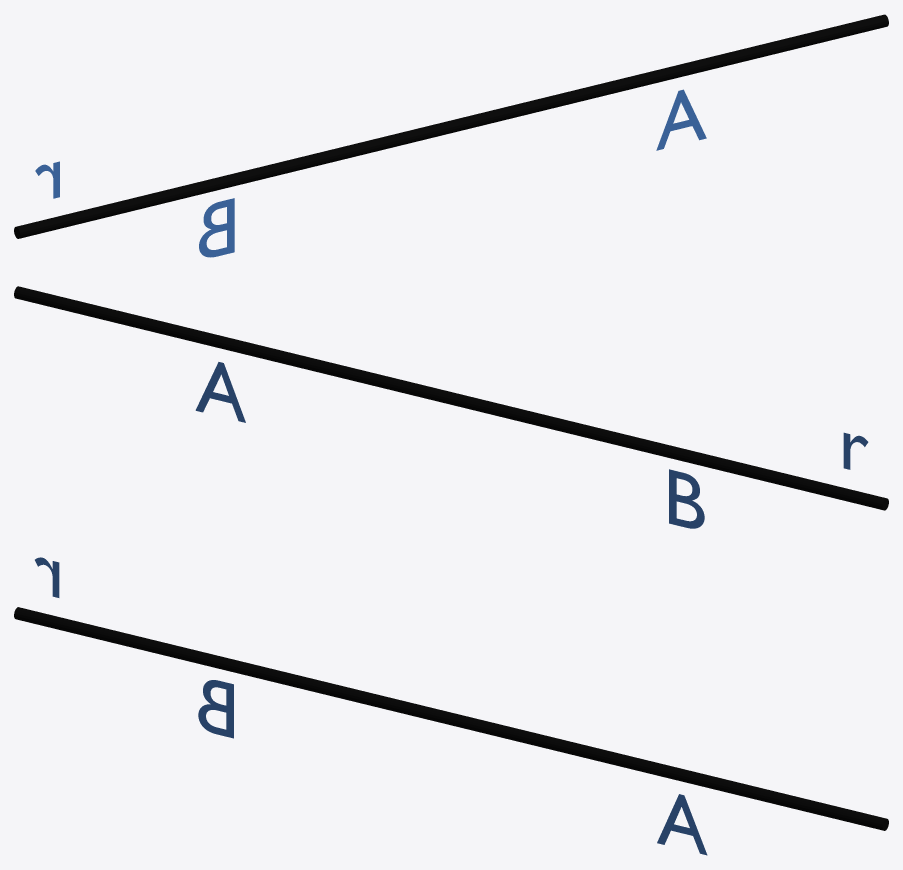
The model's file is ob1.1_reta.wrl.glb.
3 renders of one model, top to bottom at view 1: azimuth 30°, elevation 25°; view 2: azimuth 150°, elevation 25°; view 3: azimuth 330°, elevation 25°, orthographic.
Visible parts, largest first — view 1: Cylinder1_Cylinder, Text_B_Text, Text_A_Text; view 2: Cylinder1_Cylinder, Text_B_Text, Text_A_Text; view 3: Cylinder1_Cylinder, Text_B_Text, Text_A_Text.
Part boxes in pixels (box(x1,y1,x2,y2)): Cylinder1_Cylinder: box(14, 14, 888, 238); Text_B_Text: box(199, 198, 234, 257); Text_A_Text: box(656, 89, 706, 150); Cylinder1_Cylinder: box(14, 286, 888, 510); Text_B_Text: box(669, 469, 704, 528); Text_A_Text: box(195, 362, 245, 422); Cylinder1_Cylinder: box(14, 607, 888, 830); Text_B_Text: box(198, 680, 233, 738); Text_A_Text: box(657, 794, 707, 855).
Bounding box in the file's own units: 8 × 1.2 × 0.1018.
